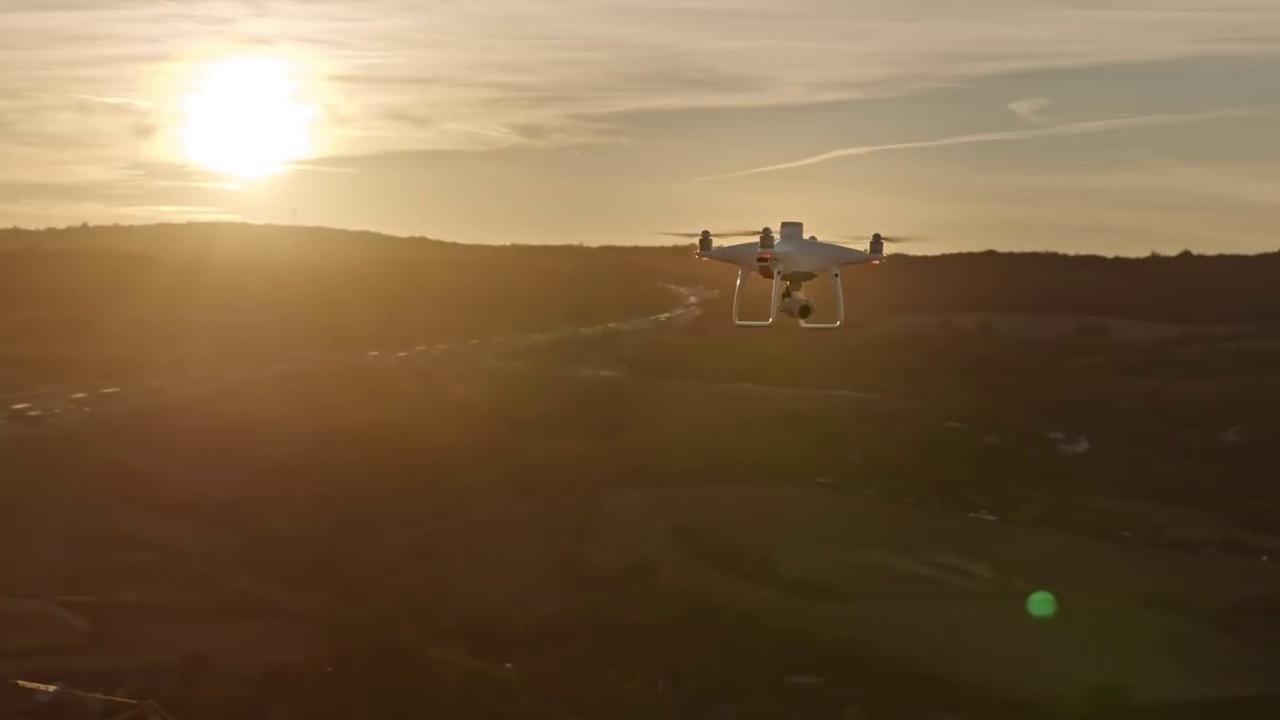drone: (656, 219, 915, 328)
